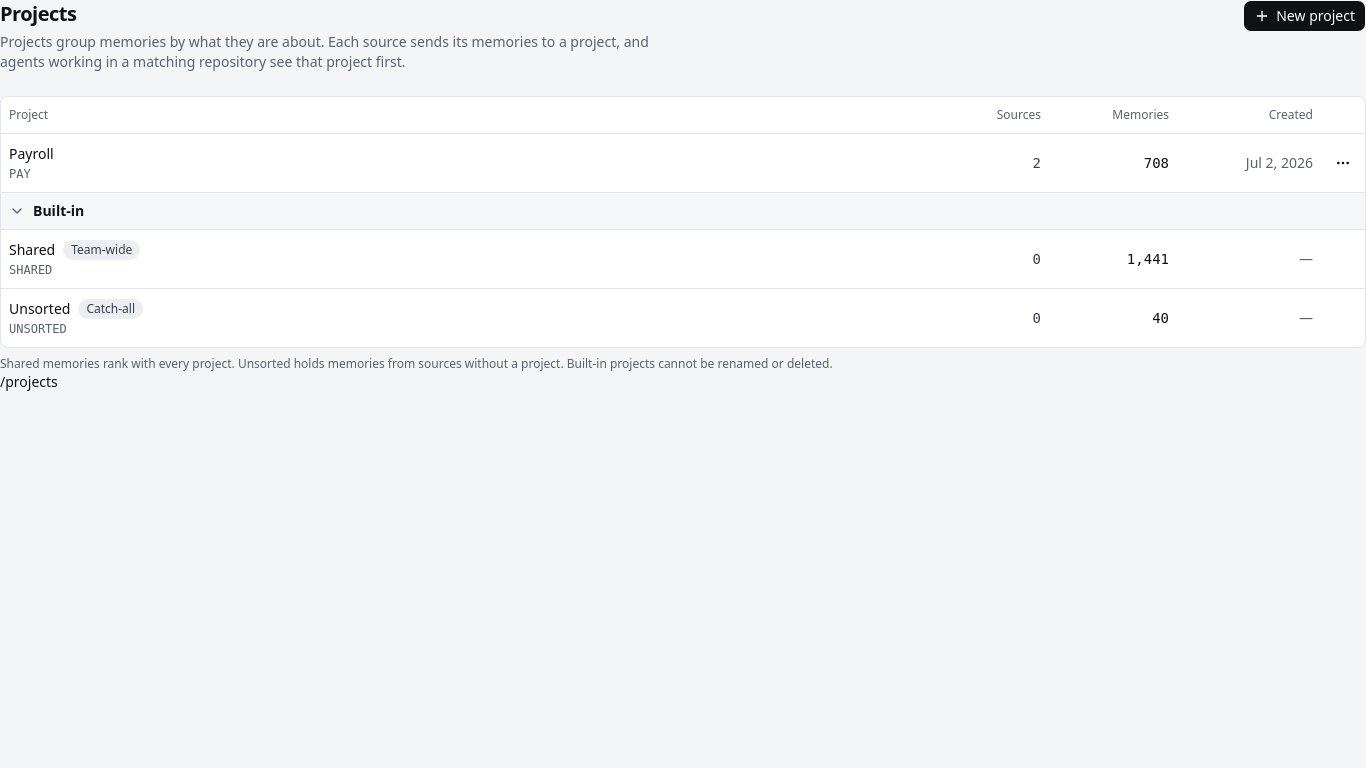
Test: deleting from the list states the consequences, then asks for the project code
This screenshot has width=1366, height=768.
Click the button named "Actions for Payroll": (1343, 162) 1329,148 -> 1357,176
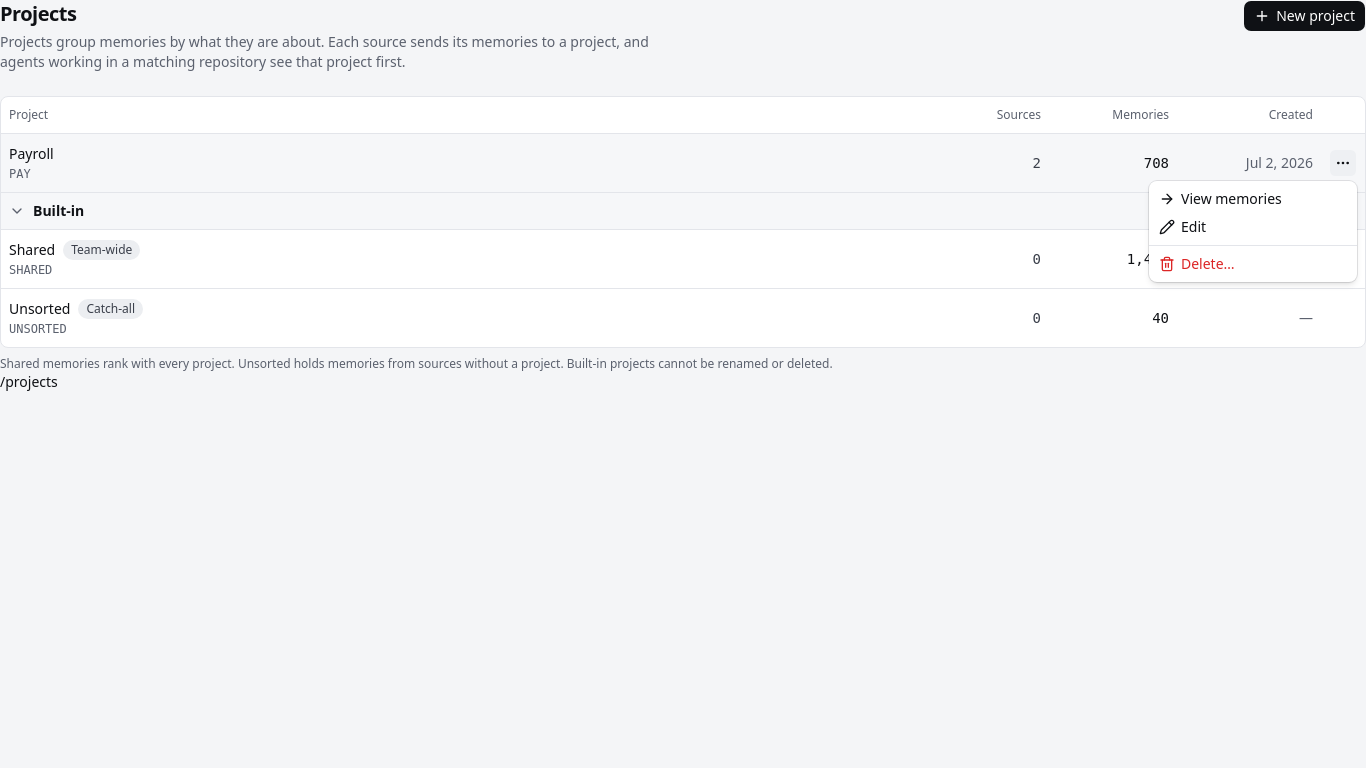
Click the menu item "Delete…": (1197, 264) 1159,254 -> 1235,273
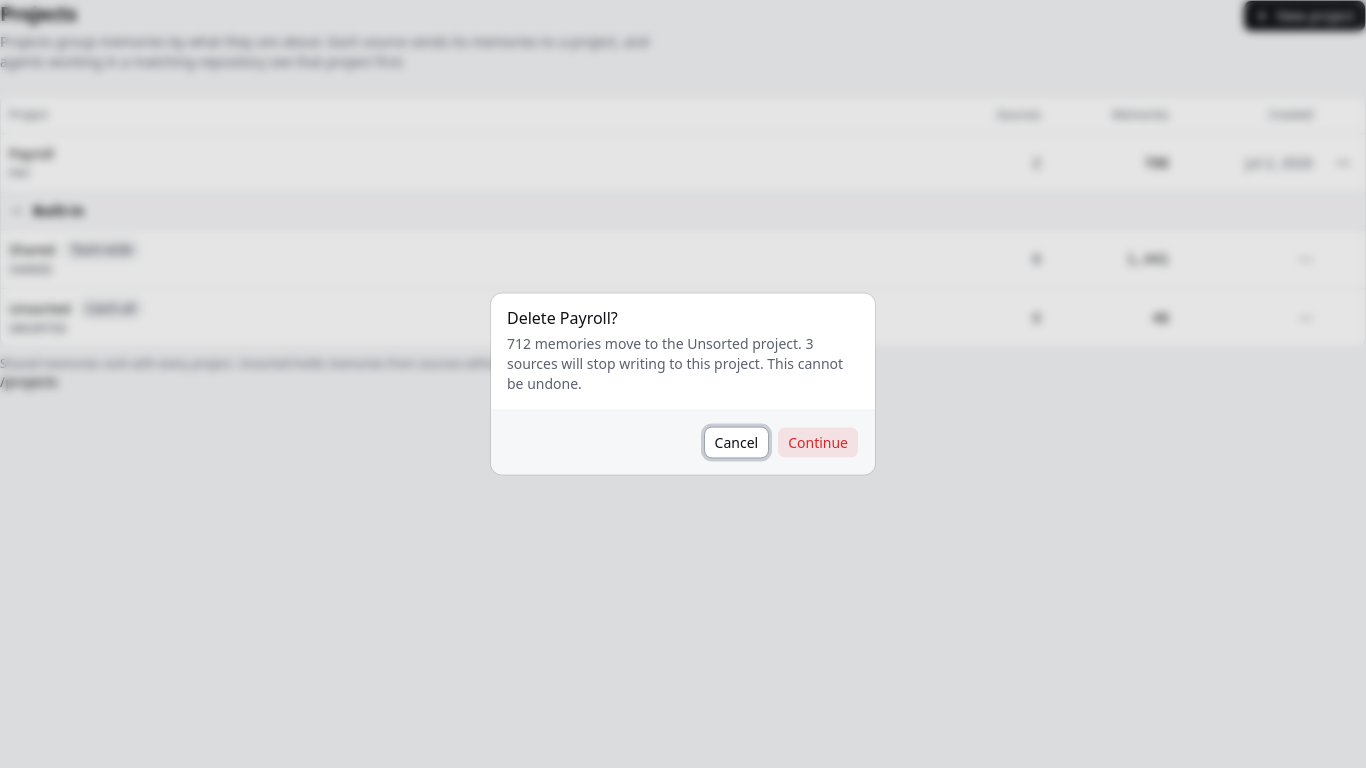
Expected: the button "Delete project" is not shown
Expected: the text "712 memories move to the Unsorted project. 3 sources will stop writing to this project. This cannot be undone." is shown, 507,334 -> 843,392
Click the button "Continue": (818, 442) 777,426 -> 859,458
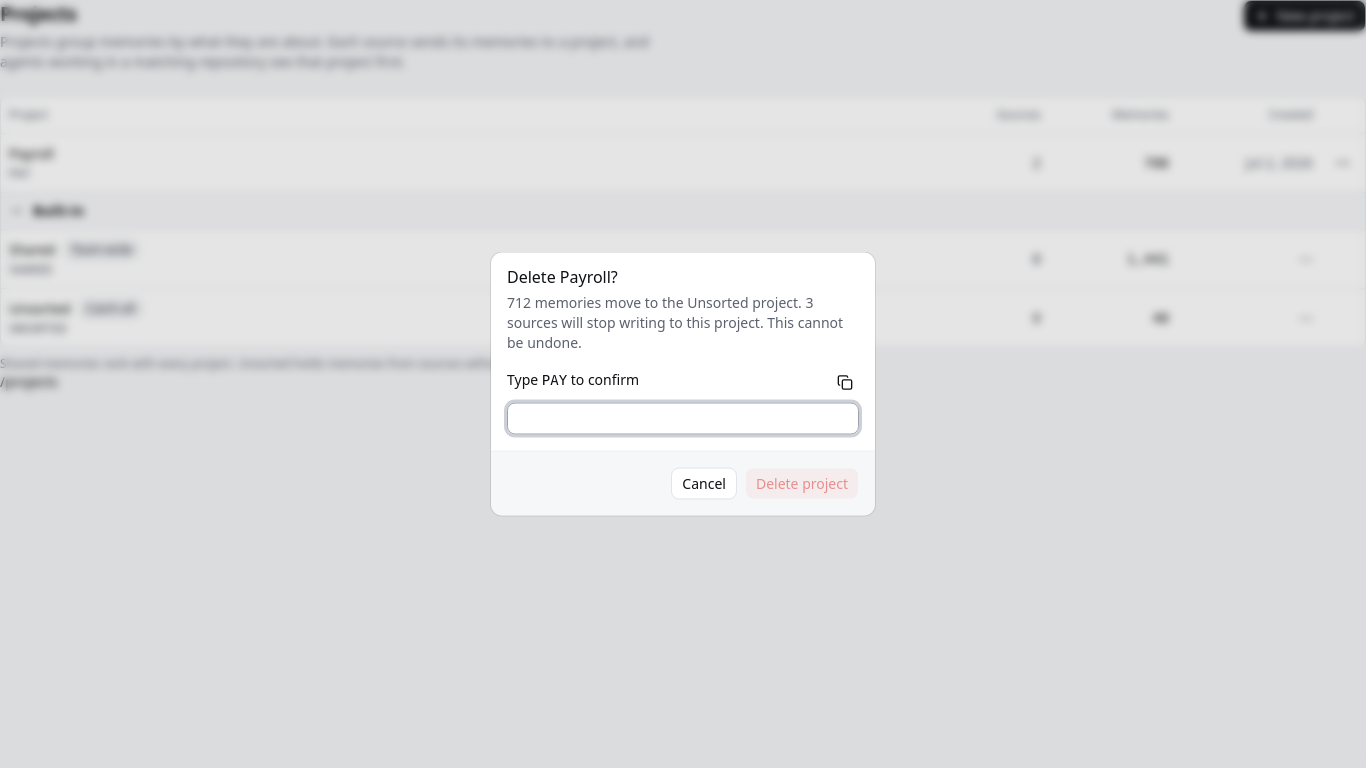
Expected: the button "Delete project" is disabled, 745,468 -> 859,500
In the field labelled "Type PAY to confirm": (683, 418) 507,402 -> 859,434, type "PA"
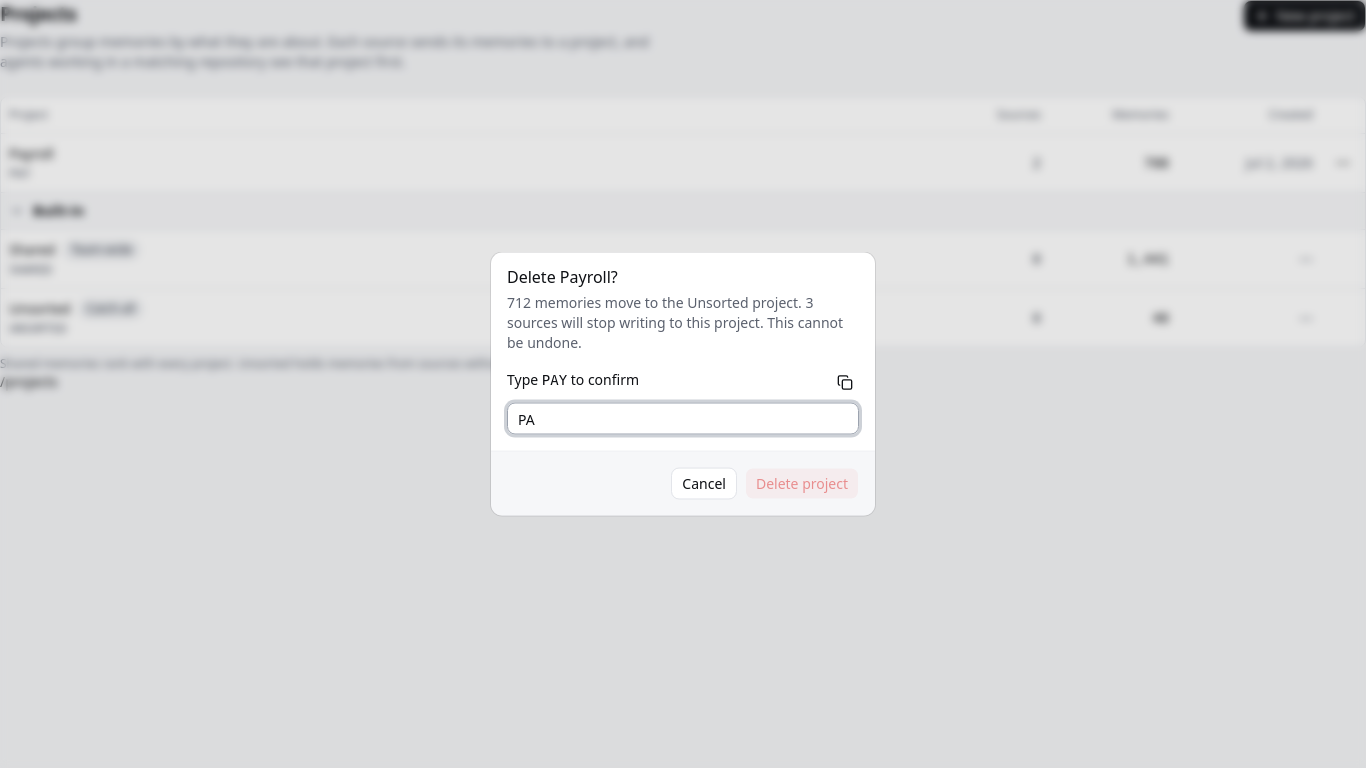
Expected: the button "Delete project" is disabled, 745,468 -> 859,500
In the field labelled "Type PAY to confirm": (683, 418) 507,402 -> 859,434, type "Y"
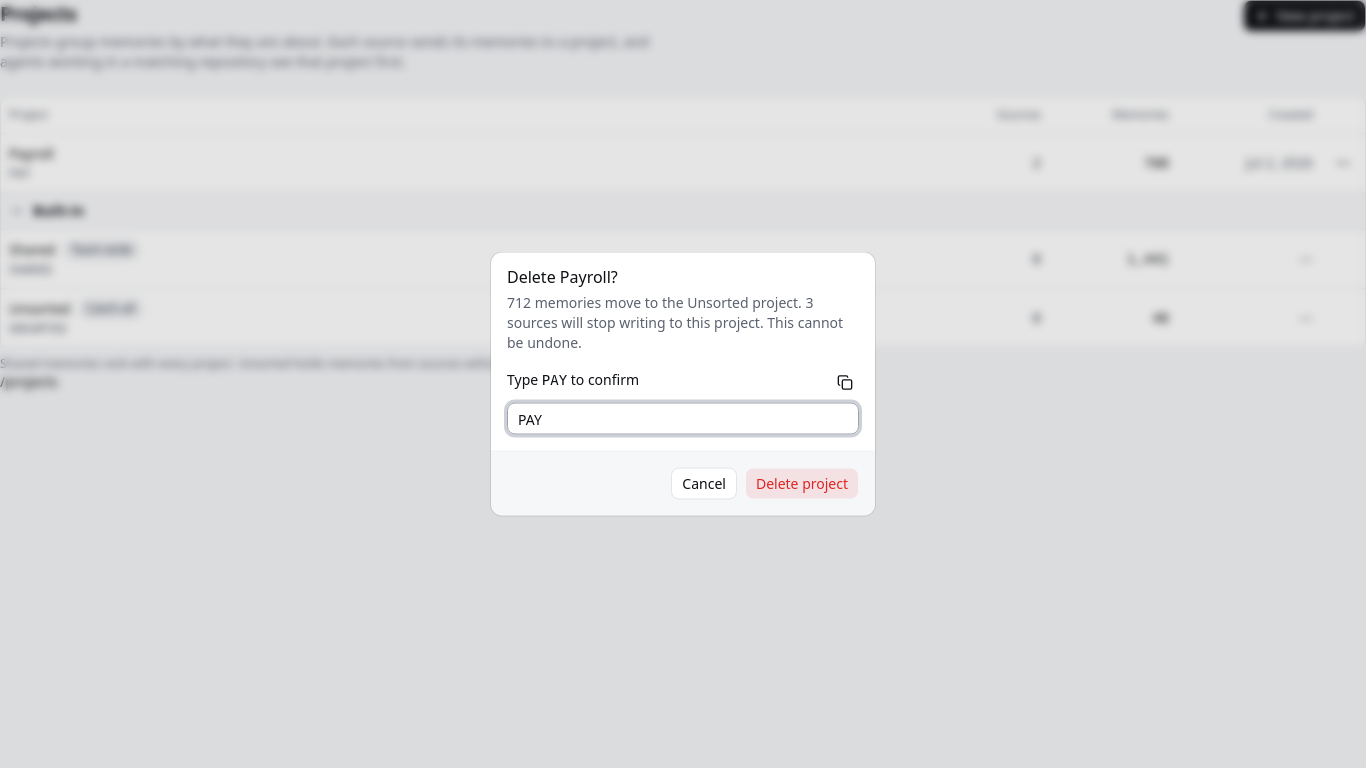
Click the button "Delete project": (802, 484) 745,468 -> 859,500
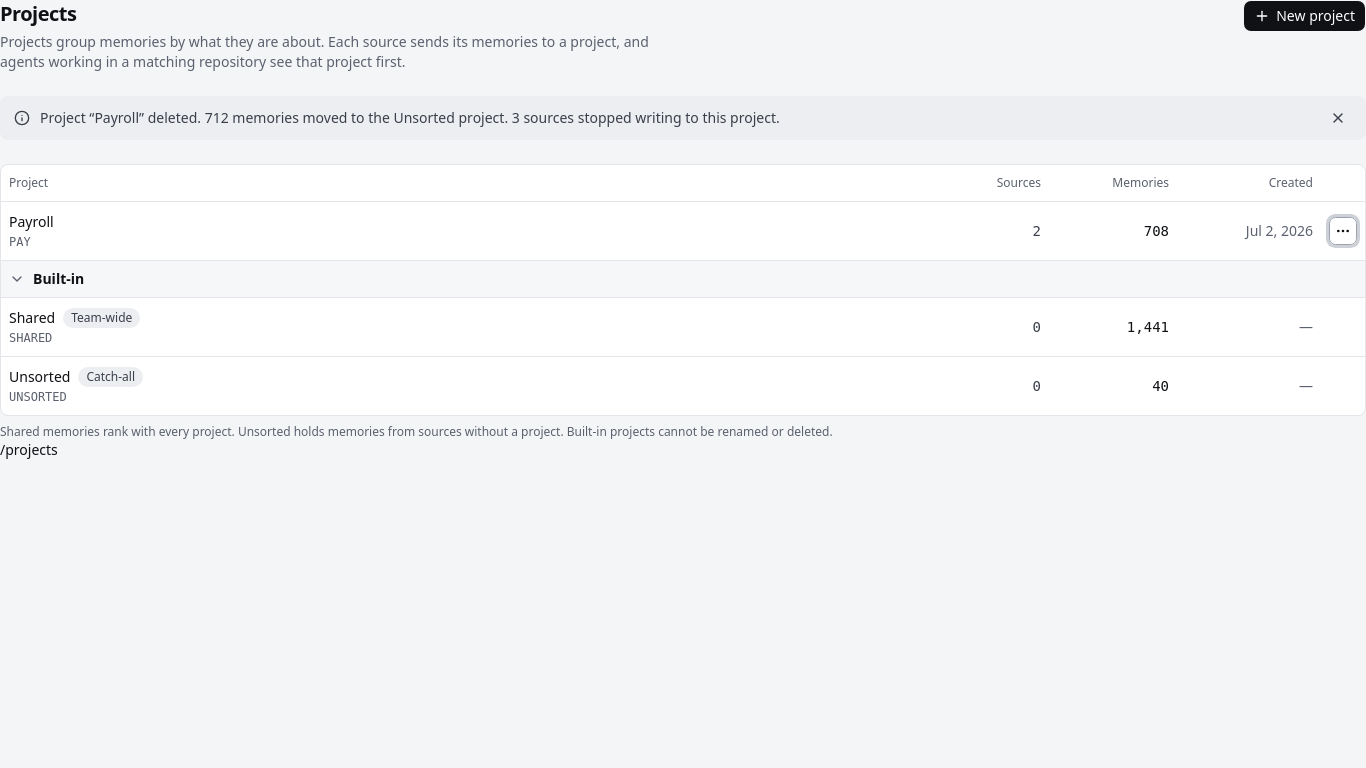
Expected: the text "Project “Payroll” deleted. 712 memories moved to the Unsorted project. 3 sources stopped writing to this project." is shown, 40,108 -> 780,127
